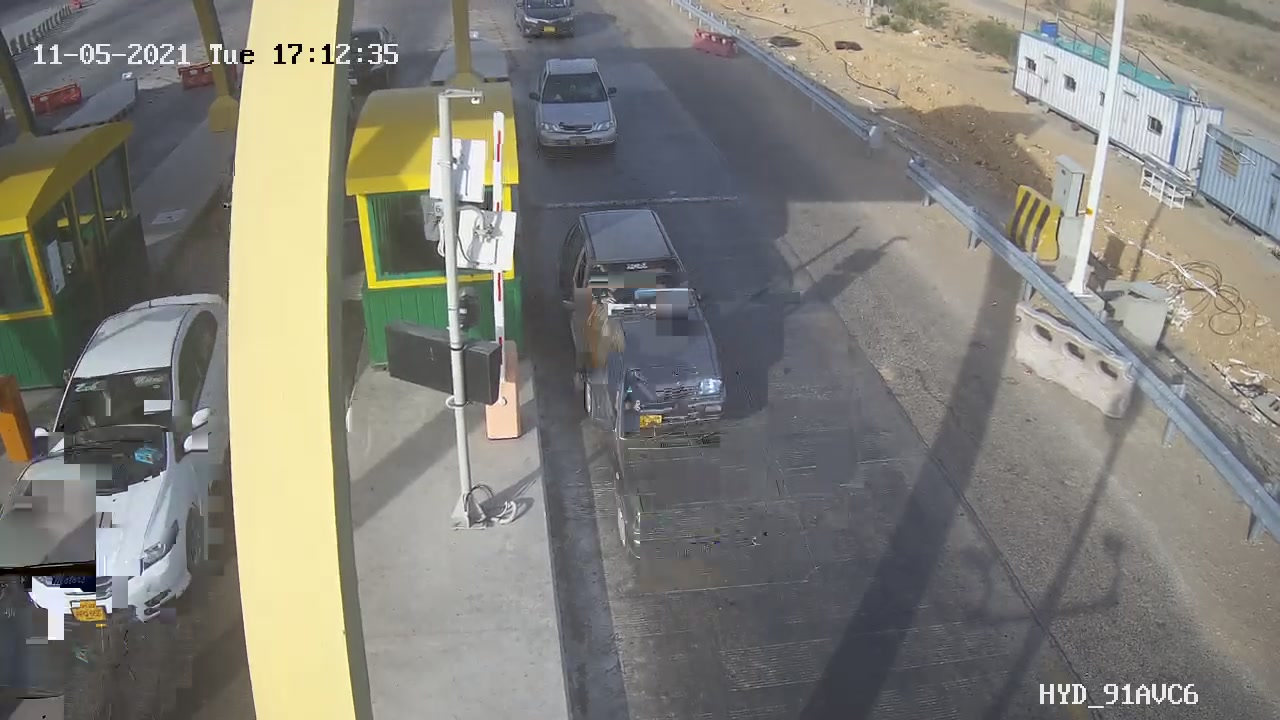F1: (516, 43, 634, 162)
